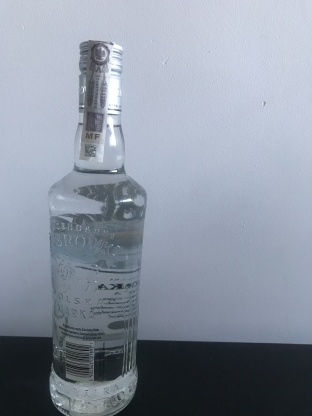nakretka: (75, 36, 125, 120)
